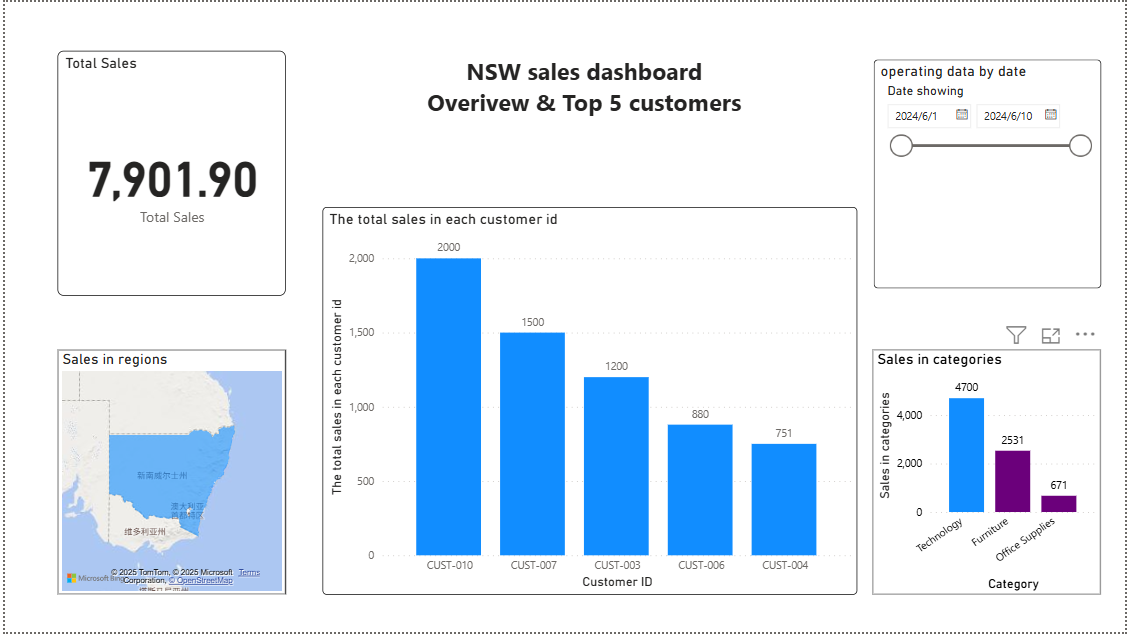

The page's visual inventory and layout, read from the dashboard file:
{"tool":"powerbi","page":{"name":"第 1 页","canvas":[1280,720],"ordinal":0},"visuals":[{"type":"card","title":"Total Sales","fields":{"Values":["Sum(NSW_Sales.Sales)"]},"box":[60.4,56.3,260.7,279.9],"z":0},{"type":"clusteredColumnChart","title":"Sales in categories","fields":{"Category":["NSW_Sales.Category"],"Y":["Sum(NSW_Sales.Sales)"]},"box":[992.1,396.6,260.7,279.9],"z":1000},{"type":"slicer","title":"operating data by date","fields":{"Values":["NSW_Sales.Date"]},"box":[992.9,65.7,260,261.4],"z":2000},{"type":"textbox","box":[350,55.7,624.3,100],"z":3000},{"type":"filledMap","title":"Sales in regions","fields":{"Category":["NSW_Sales.Region"]},"box":[60.4,396.6,260.7,279.9],"z":4000},{"type":"clusteredColumnChart","title":"The total sales in each customer id","fields":{"Y":["Sum(NSW_Sales.Sales)"],"Category":["NSW_Sales.Customer ID"]},"box":[362.9,234.3,611.4,442.9],"z":5000}]}

Visuals, with their boxes in screenshot pixels (x1, y1, x2, y2), scaled from the page's 1280x720 canvas onto the 1132x642 screenshot:
"Total Sales" card: {"left": 53, "top": 50, "right": 284, "bottom": 300}
"Sales in categories" clusteredColumnChart: {"left": 877, "top": 354, "right": 1108, "bottom": 603}
"operating data by date" slicer: {"left": 878, "top": 59, "right": 1108, "bottom": 292}
textbox: {"left": 310, "top": 50, "right": 862, "bottom": 139}
"Sales in regions" filledMap: {"left": 53, "top": 354, "right": 284, "bottom": 603}
"The total sales in each customer id" clusteredColumnChart: {"left": 321, "top": 209, "right": 862, "bottom": 604}
